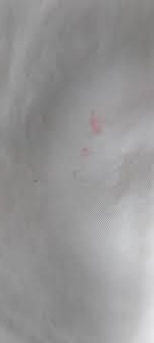lipstick: (86, 109, 104, 137), (78, 145, 92, 159)
